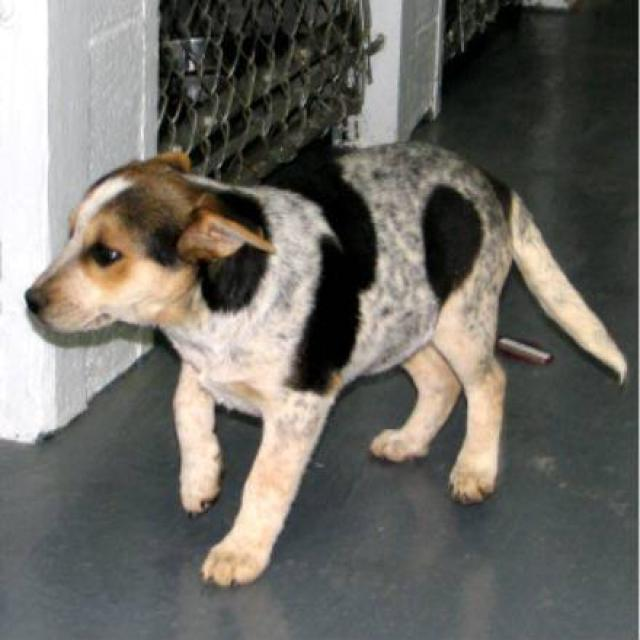dog: (24, 136, 628, 588)
